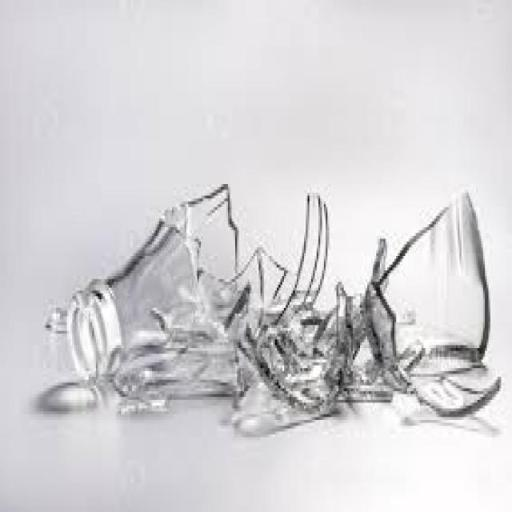glass: (57, 183, 277, 409), (375, 193, 493, 363), (97, 196, 221, 356), (245, 291, 377, 413), (372, 205, 452, 289), (419, 368, 500, 413), (300, 195, 326, 307), (44, 305, 70, 335), (91, 376, 113, 410)
